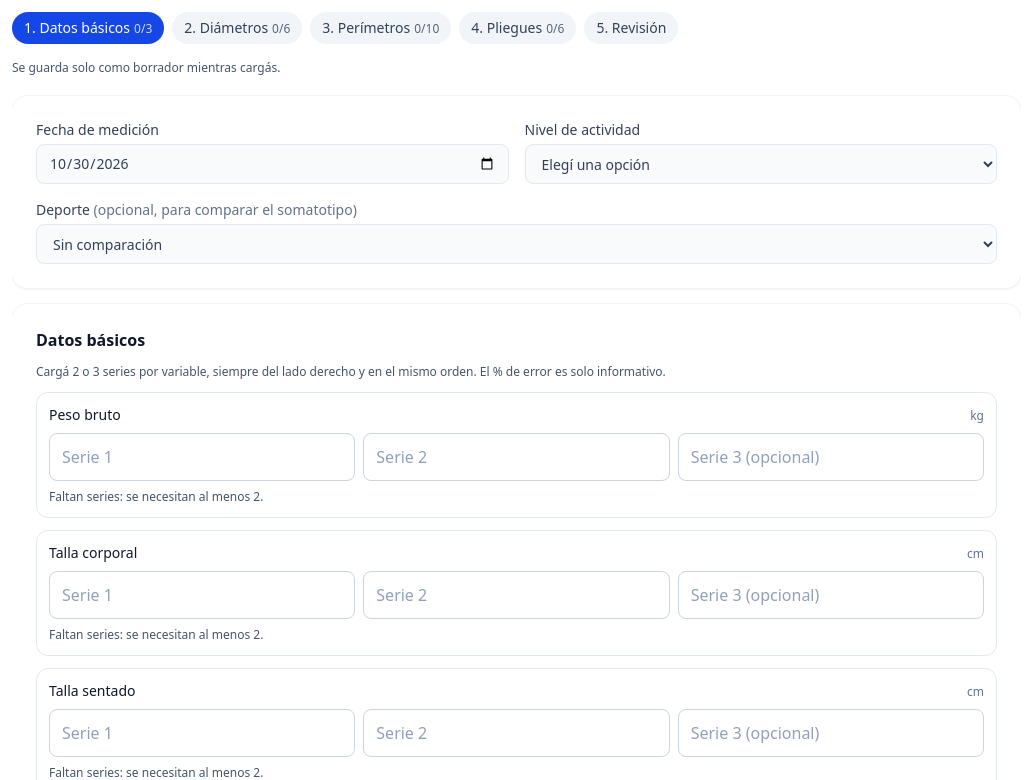
MedicionWizard — autoguardado › guarda un borrador solo, después de escribir (con debounce)
Type "53" into the field named "Peso bruto, serie 1".
click(202, 457); type("53")  # box left=49, top=433, right=355, bottom=481
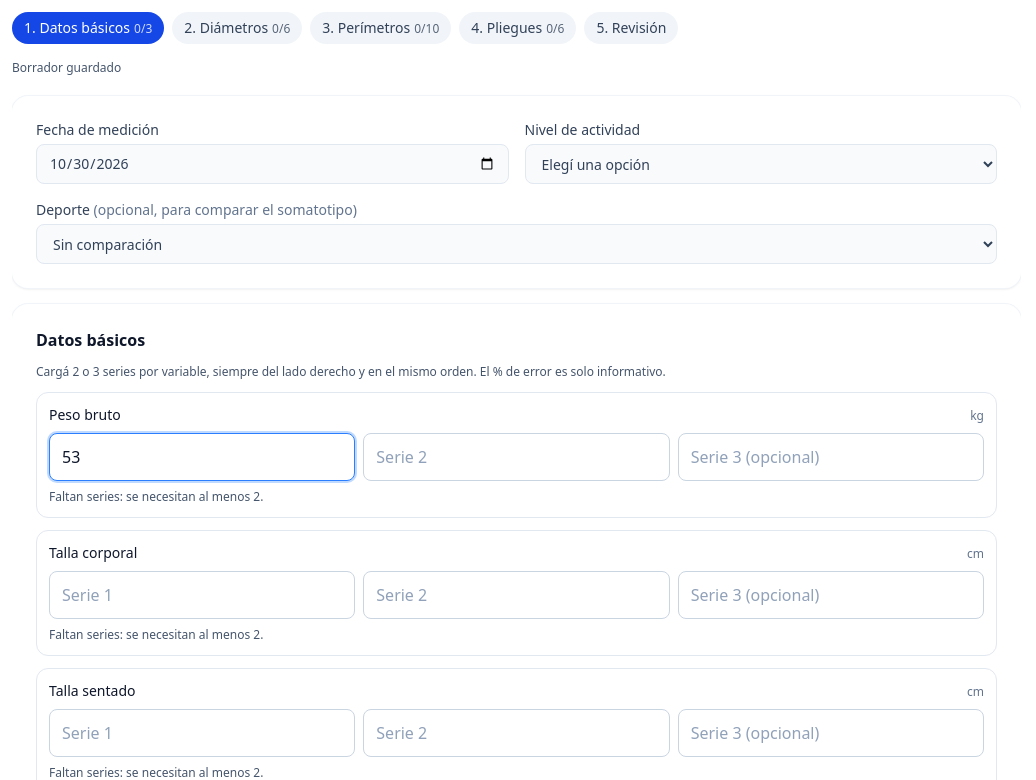
Expected: the text "Borrador guardado" is shown, left=12, top=59, right=121, bottom=76
